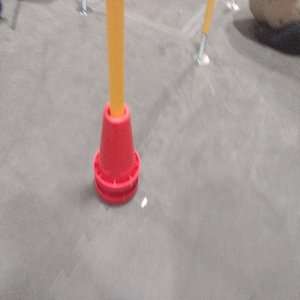Red_2: (87, 99, 144, 205)
